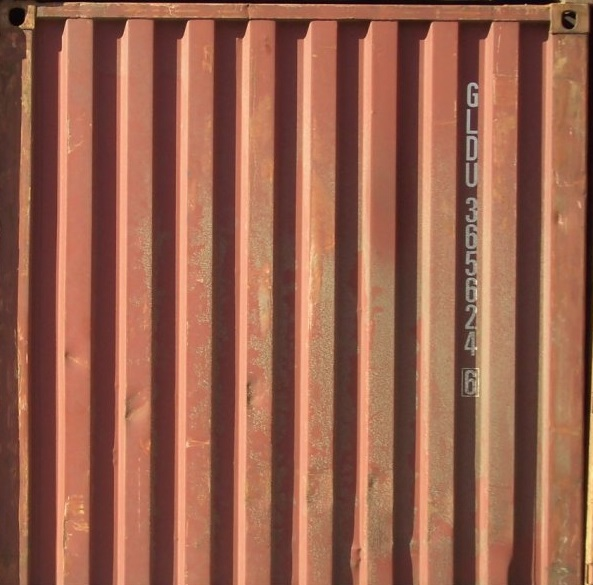container_no_door: (13, 7, 581, 584)
